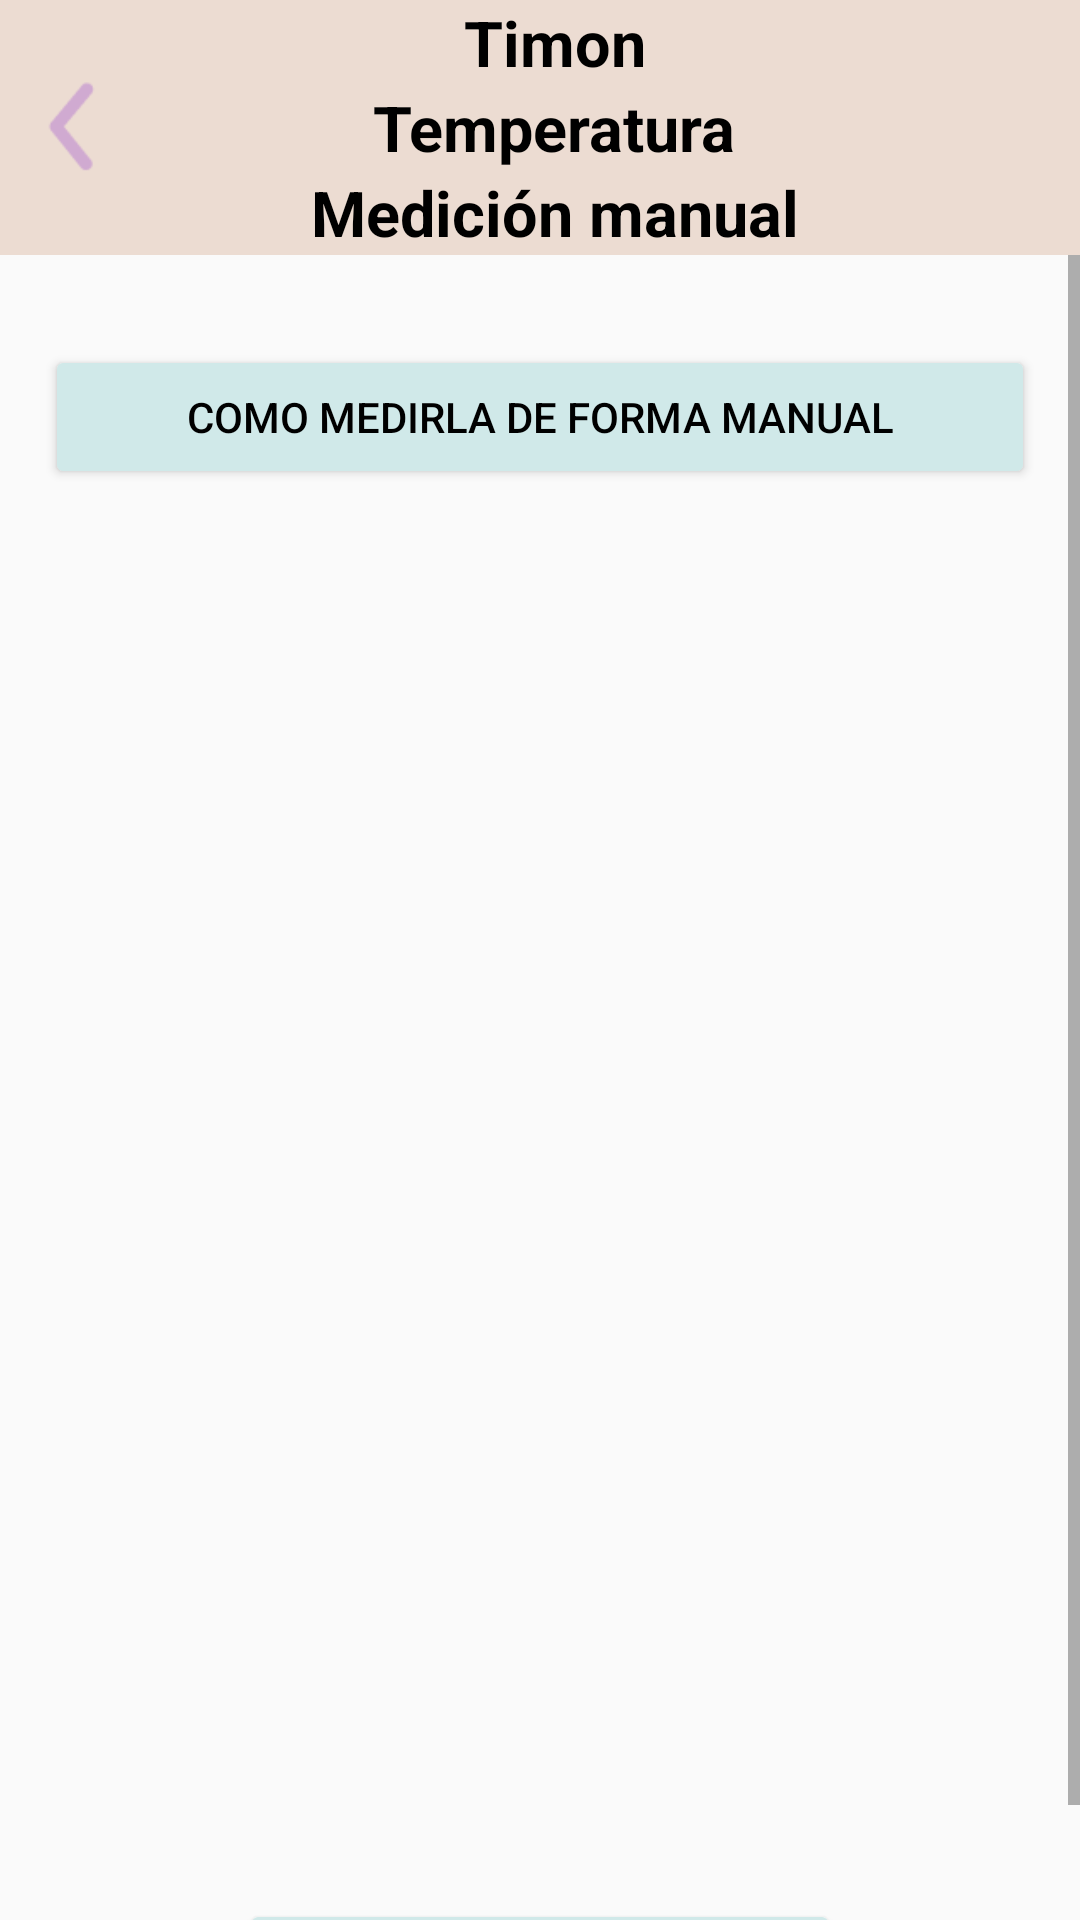

Named icons in this screenshot (1080×1920) and their bounding boxes, (x1=x1, y1=y1, x2=x2, y2=y2):
back: (x1=50, y1=83, x2=93, y2=170)
